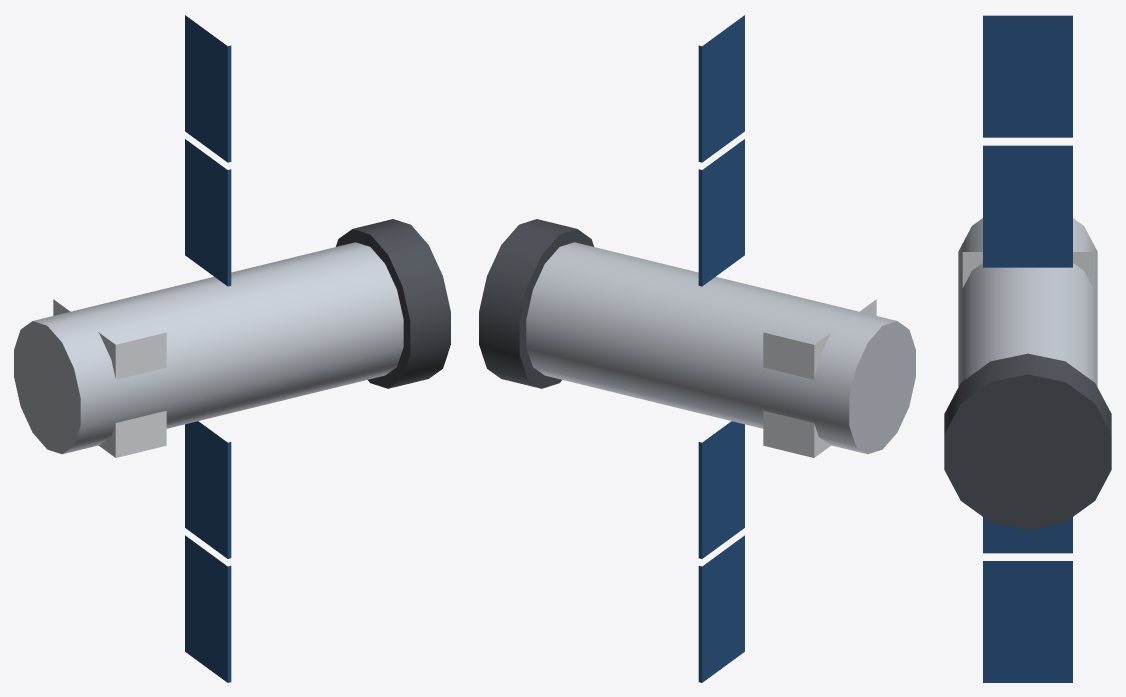
3 renders of one model, left to right at view 1: azimuth 30°, elevation 25°; view 2: azimuth 150°, elevation 25°; view 3: azimuth 270°, elevation 25°, orthographic. The views are drawn at different scales.
Bounding box in the file's own units: 10.75 × 17.99 × 4.09.
